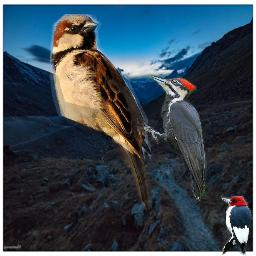Swallow: (49, 14, 151, 210)
Woodpecker: (141, 74, 211, 202), (221, 194, 253, 256)
